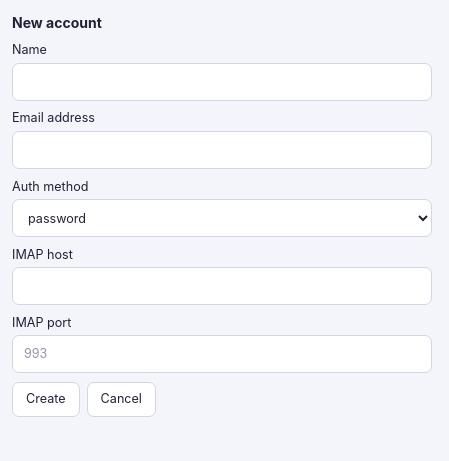
Test: AccountForm › rejects a non-numeric port instead of silently dropping it
Step 1. Type "x" into the field labelled "Name" → [222, 82], box [12, 63, 432, 101]
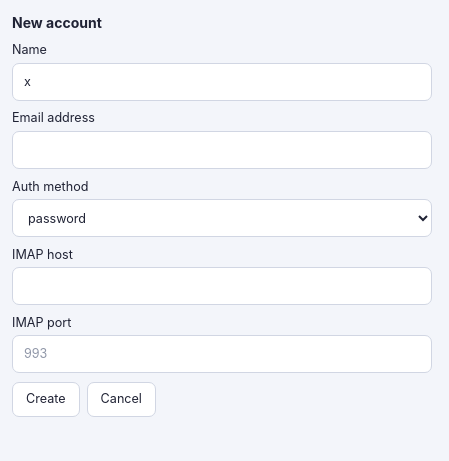
Step 2. Type "x@y.z" into the field labelled "Email address" → [222, 150], box [12, 131, 432, 169]
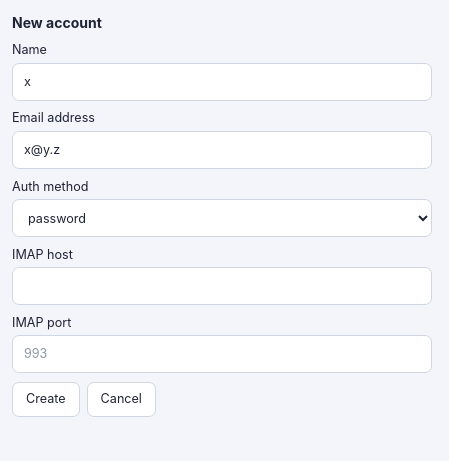
Step 3. Type "imap.e.rk" into the field with test id "field-imap-host" → [222, 286], box [12, 267, 432, 305]
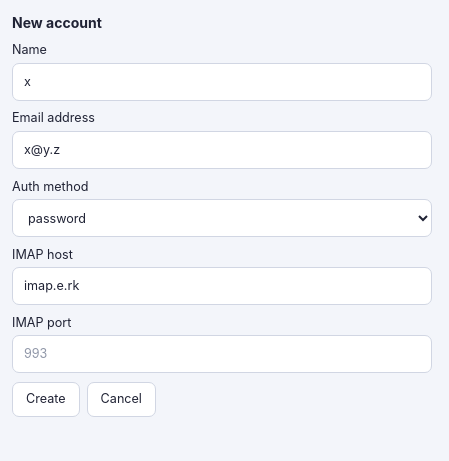
Step 4. Type "not-a-port" into the field labelled "IMAP port" → [222, 354], box [12, 335, 432, 373]
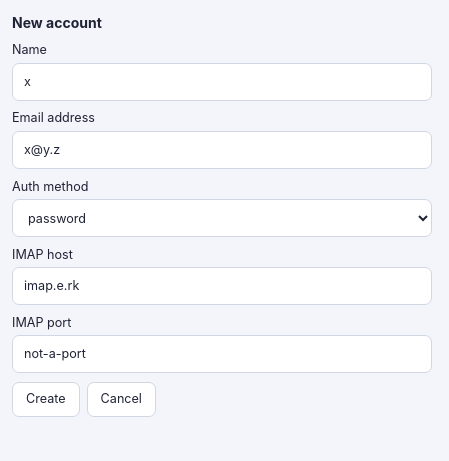
Step 5. Submit the form with test id "account-form"
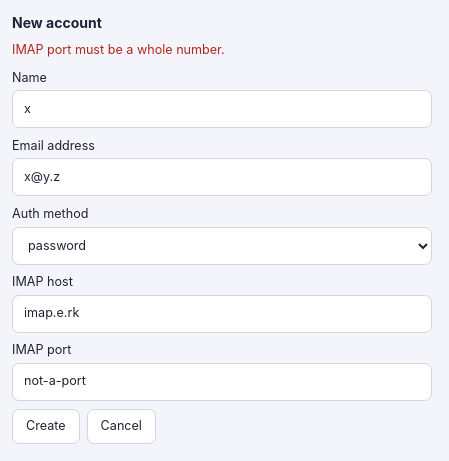
Now the message with test id "account-form-error" shows "whole number", box [12, 42, 225, 57]
